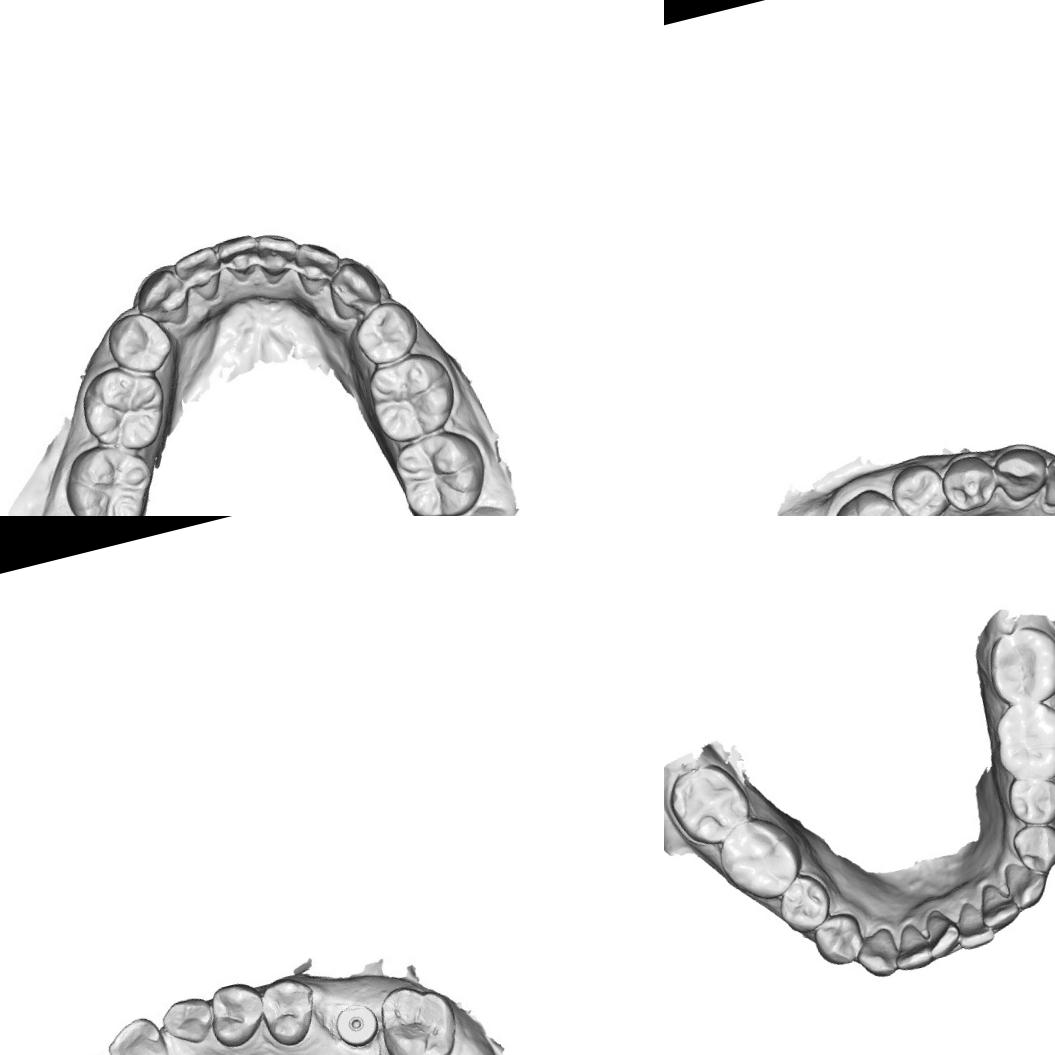canine: (320, 255, 391, 327), (130, 263, 193, 333), (990, 440, 1054, 506), (156, 989, 218, 1052), (850, 924, 904, 983), (1000, 854, 1052, 913)
implant: (331, 1000, 384, 1050)
incisor: (291, 234, 347, 300), (212, 224, 270, 287), (174, 242, 228, 306), (100, 1011, 177, 1055), (973, 876, 1024, 933), (252, 224, 300, 284), (885, 917, 935, 974), (918, 903, 966, 960), (950, 895, 997, 950), (1033, 450, 1055, 510)
molar: (362, 344, 461, 448), (712, 809, 810, 909), (75, 358, 172, 456), (390, 425, 492, 516), (56, 434, 167, 516), (664, 754, 757, 851), (371, 974, 468, 1055), (978, 617, 1055, 712), (986, 692, 1055, 788), (822, 478, 922, 516)
premolar: (99, 305, 174, 380), (348, 296, 424, 370), (201, 974, 272, 1053), (253, 973, 323, 1052), (771, 868, 836, 938), (935, 449, 1002, 516), (883, 456, 953, 516), (809, 907, 868, 970), (1002, 767, 1055, 828), (1007, 816, 1055, 879)
